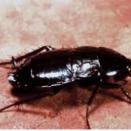cockroach: (6, 45, 131, 102)
